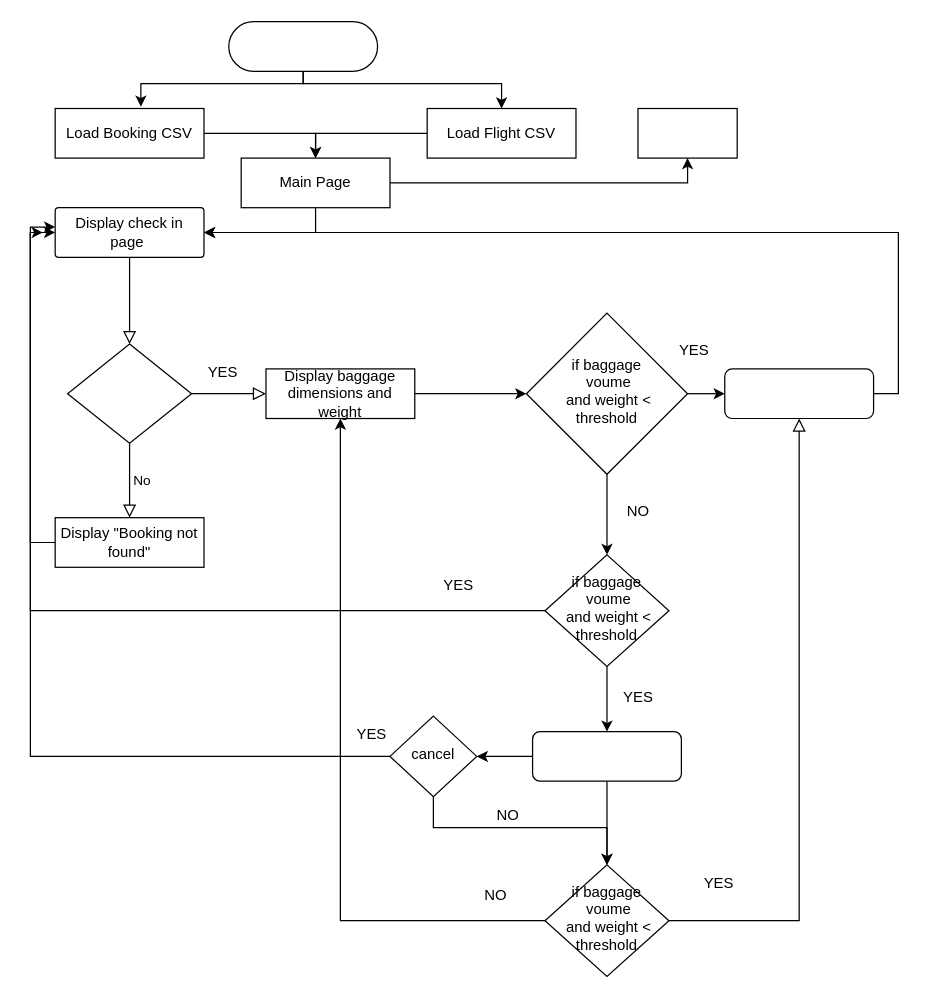
Image size: 930x998. Some labels were removed from this diagram. The shapes that lost their labels are listed below. From the top down, each one's centre as x and y in pixels, then its label:
At point 303,45: "On Start".
At point 687,132: "view flight".
At point 129,393: "is booking is verified".
At point 799,393: "Update reports".
At point 606,755: "display baggage weight pay rate".
